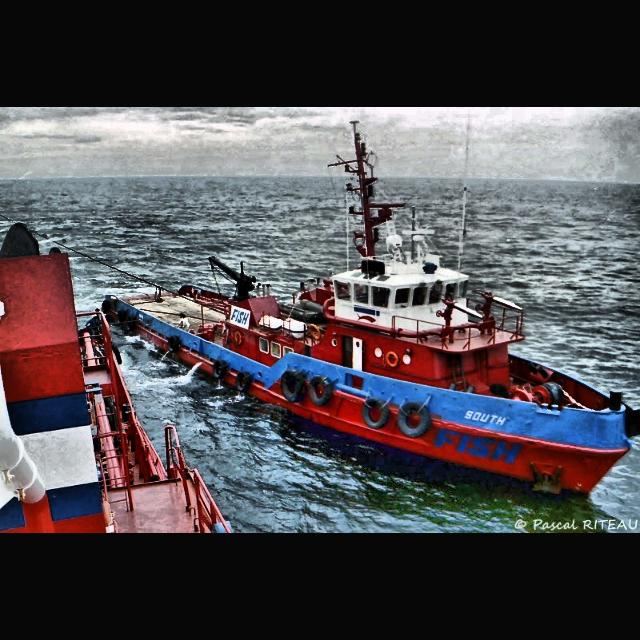anchor_handling_tug_supply: (101, 179, 637, 497)
